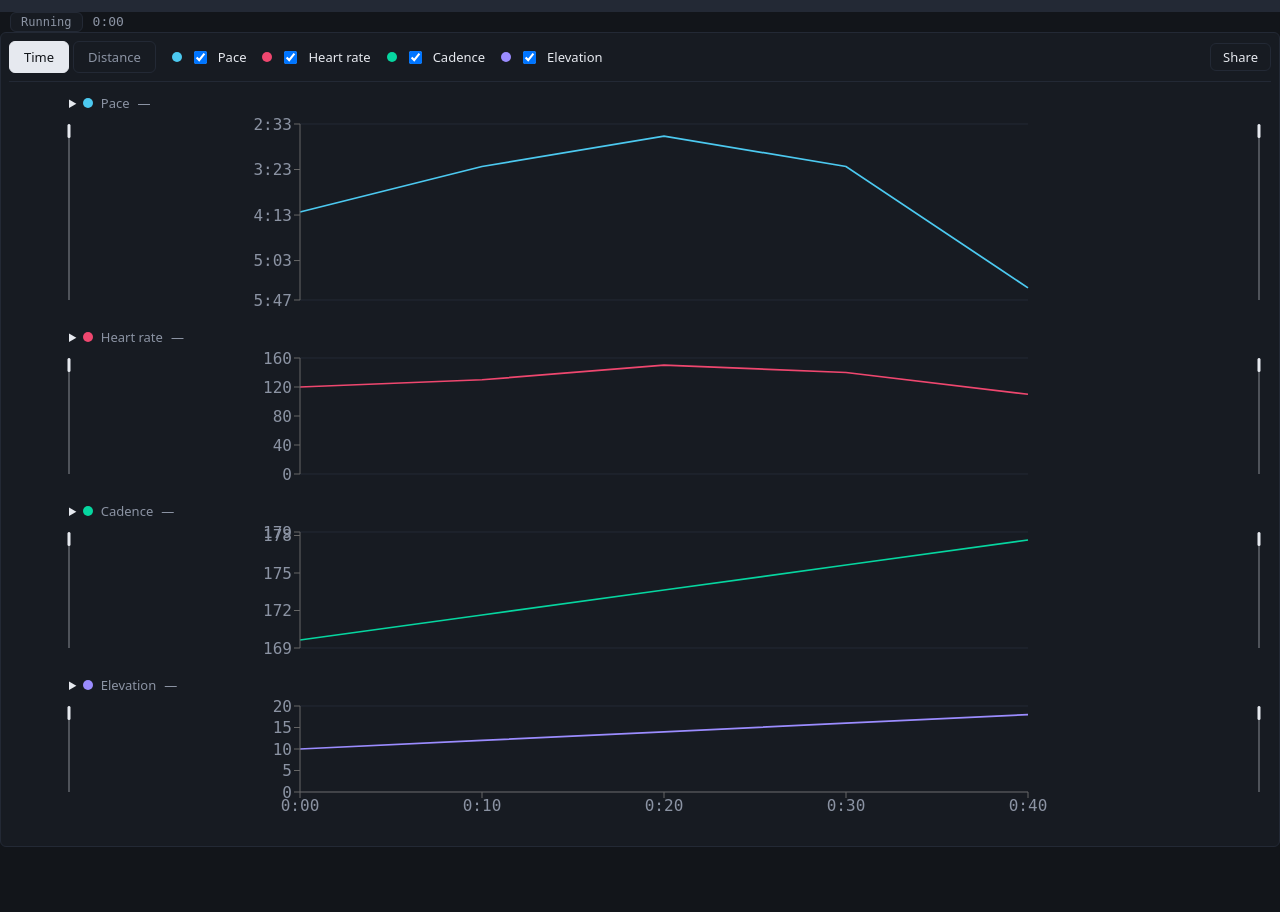
Test case: ChartStack › reports the hovered position once, in the header, rather than once per panel
Expected: the element with class "metric-panel" showing "Pace" is shown, [9,94,1271,316]
Hover over the element with class "recharts-wrapper" showing "169 172 175 178 179" at (640, 594), box [9,524,1271,664]
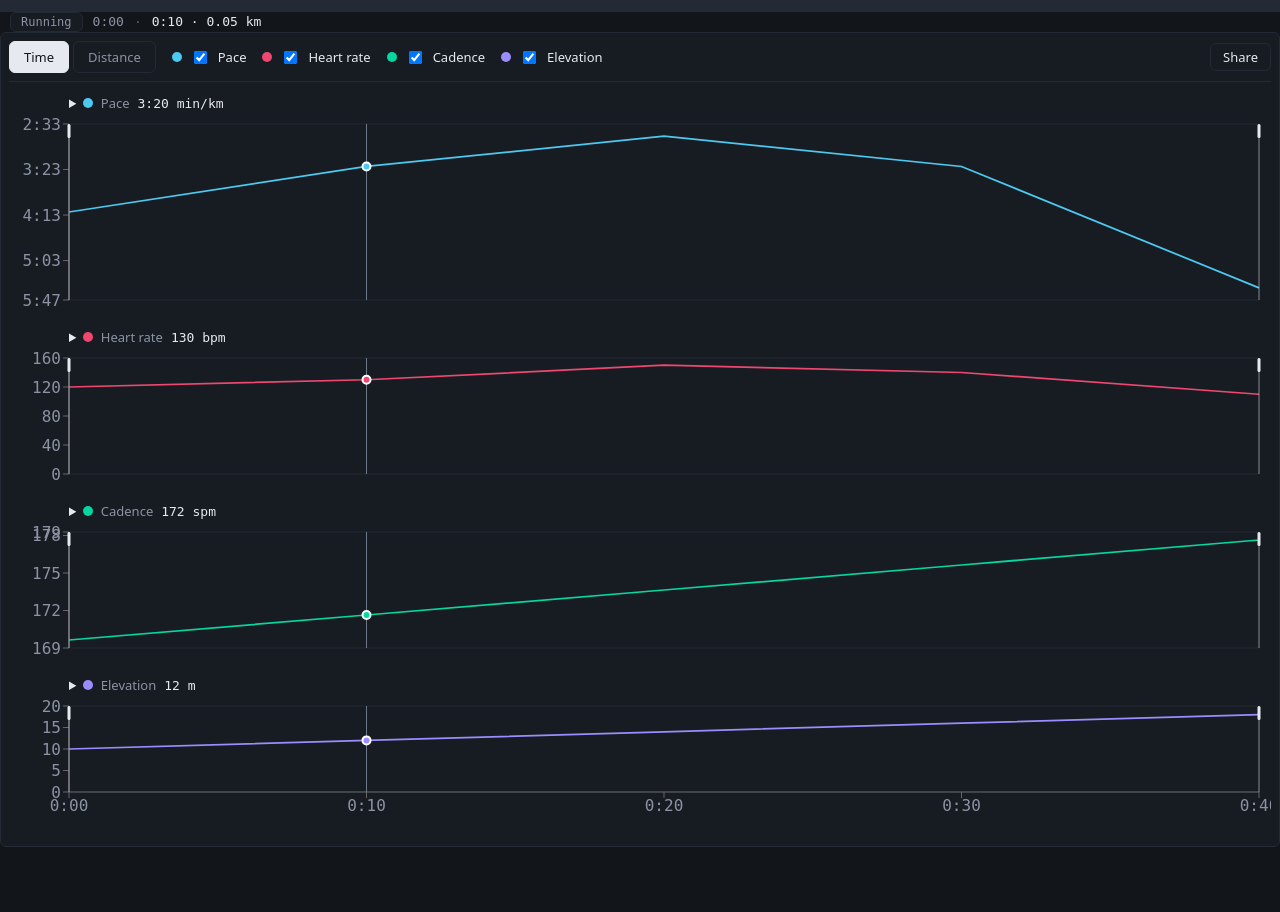
Now the text with class "crosshair-position" shows "0:10", box [152,14,183,29]
Now the text with class "crosshair-position" shows "0.05 km", box [206,14,261,29]
